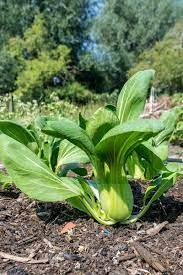Healthy-Pechay: (8, 100, 183, 205)
